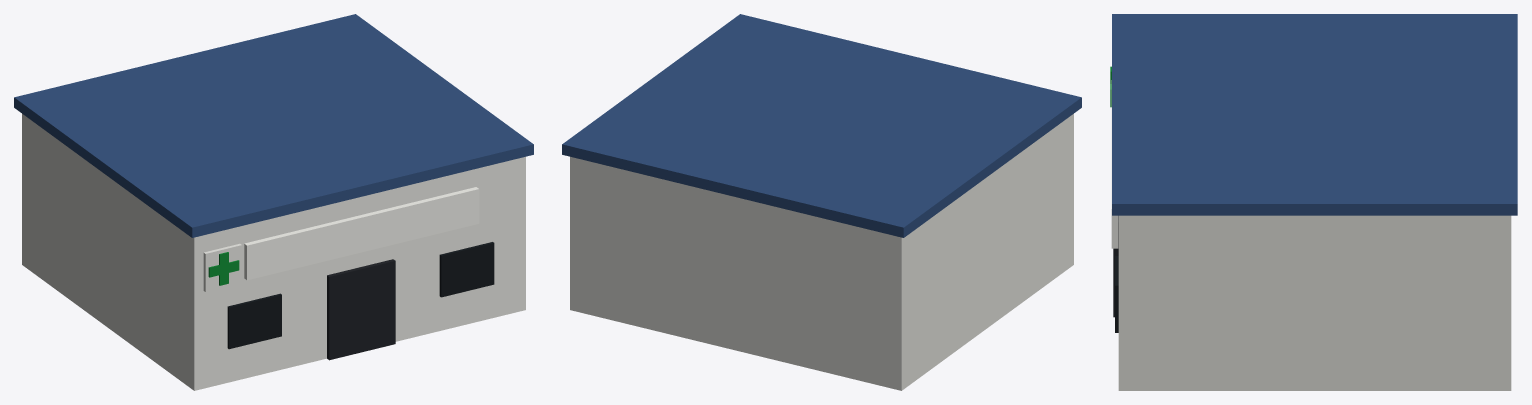
Rendered from clinic.glb.
3 renders of one model, left to right at view 1: azimuth 30°, elevation 25°; view 2: azimuth 150°, elevation 25°; view 3: azimuth 270°, elevation 25°, orthographic. The views are drawn at different scales.
Parts seen in each view (by area): view 1: clinic; view 2: clinic; view 3: clinic.
Part boxes in pixels (x1,y1,x2,y2): clinic: (14, 14, 533, 390); clinic: (562, 14, 1081, 390); clinic: (1110, 14, 1517, 390).
Size of the model in its own units: 10.3 by 4.8 by 9.34.
